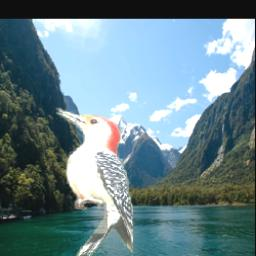Woodpecker: (53, 109, 134, 256)
